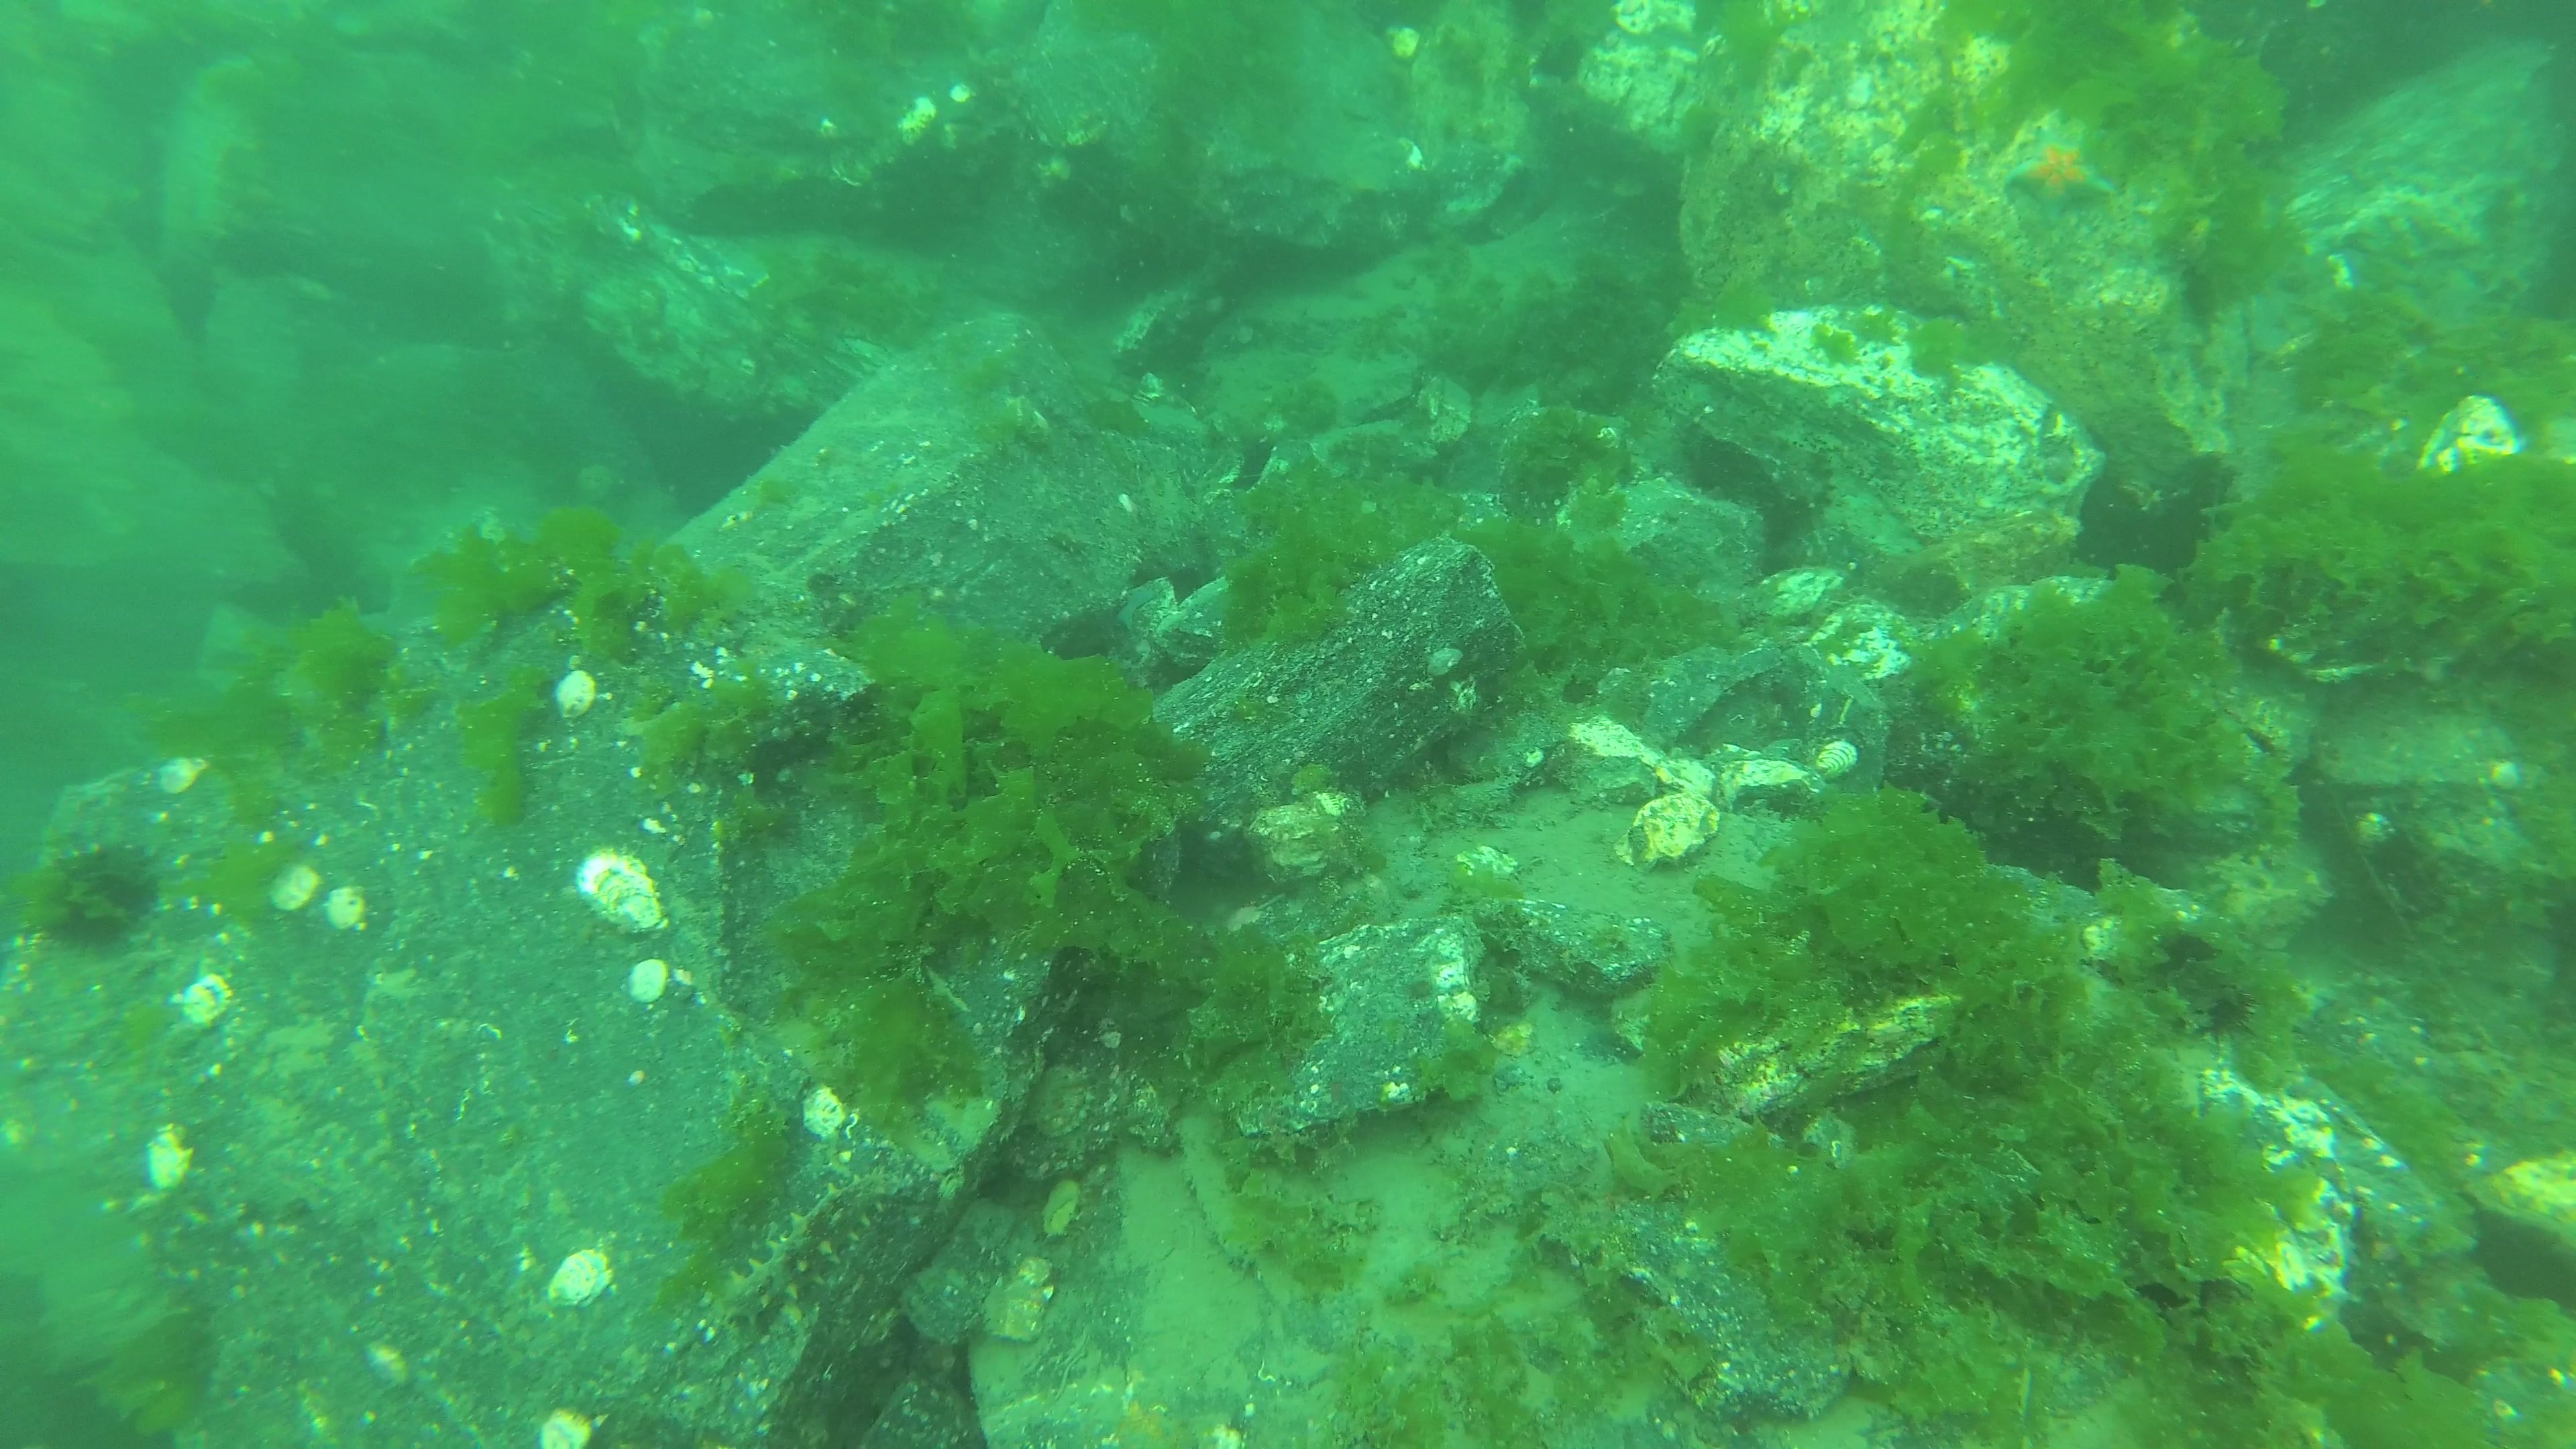echinus: (32, 846, 159, 952)
holothurian: (711, 1169, 902, 1332)
starfish: (1997, 127, 2118, 230)
